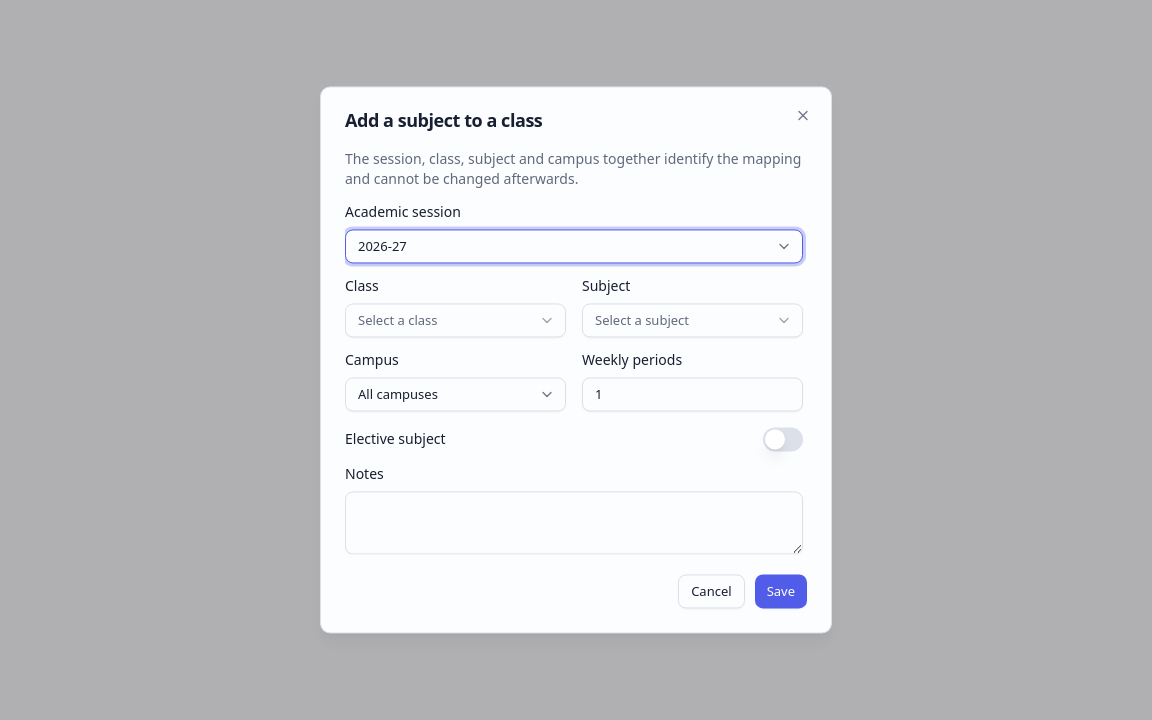
Scenario: CurriculumFormDialog › adding a subject › asks for the class and the subject, and sends nothing without them
Click the button "Save": (781, 592) [755,575,807,609]
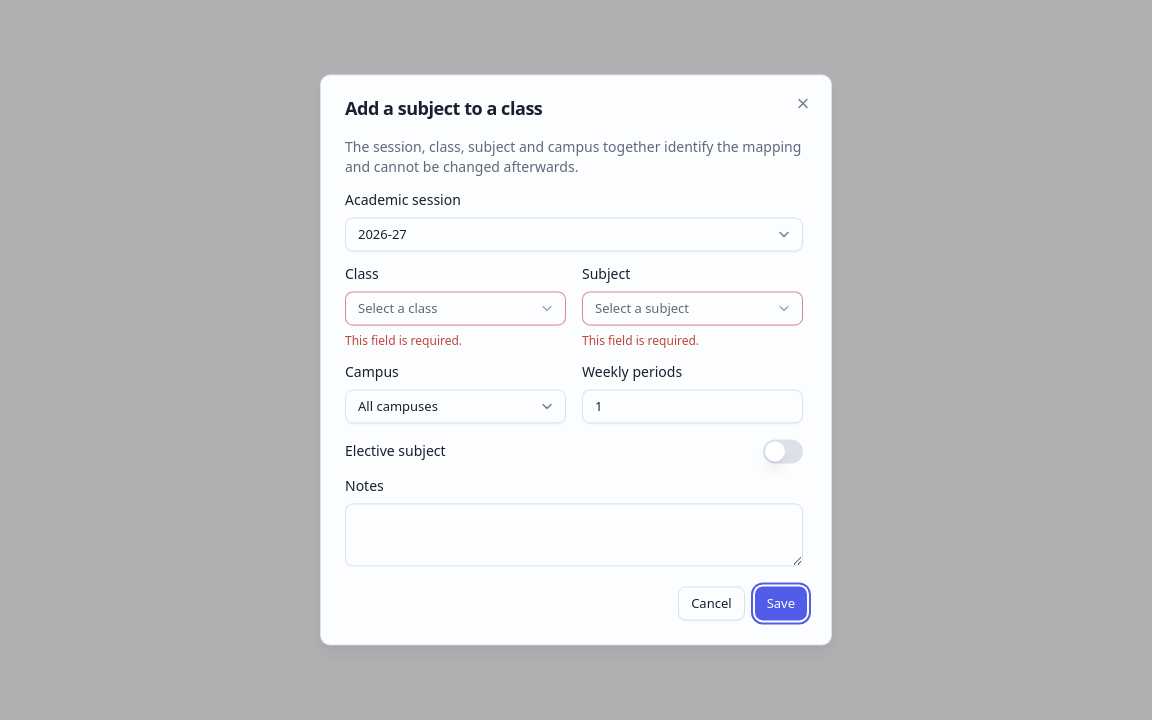
Result: the text "This field is required." is shown 2 times at [345,332,462,349]; [582,332,699,349]
